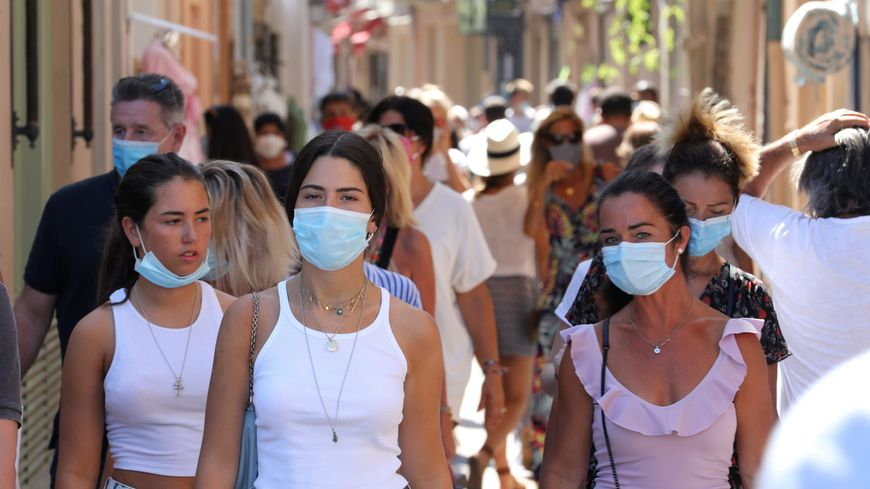with_incorrect_mask: (142, 190, 210, 284)
with_mask: (295, 174, 371, 268), (600, 214, 680, 295), (676, 180, 732, 258), (111, 104, 160, 177), (545, 121, 582, 167)
